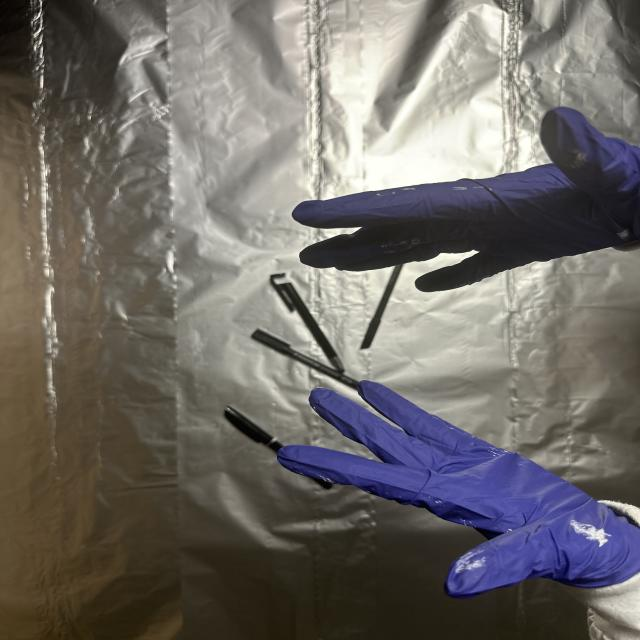gloves_contaminated: (278, 381, 640, 597), (292, 107, 640, 292)
